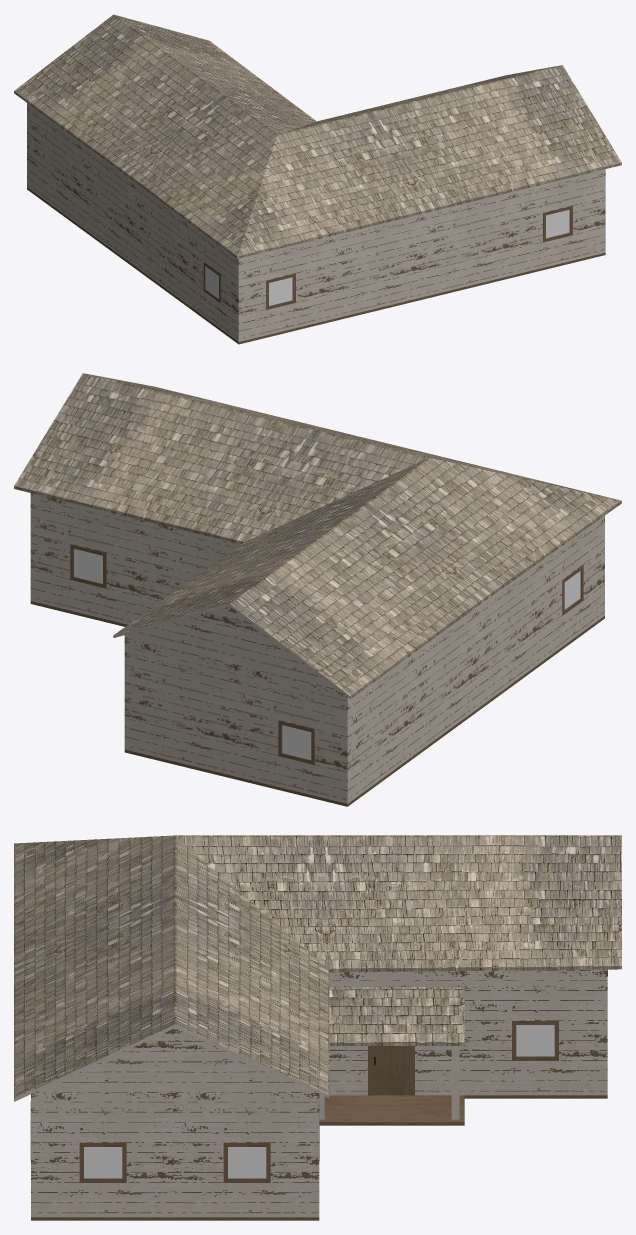
Rendered from FarmHause03.fbx.
3 views of the same model, one above another, from view 1: azimuth 30°, elevation 25°; view 2: azimuth 150°, elevation 25°; view 3: azimuth 270°, elevation 25° (orthographic). The views are drawn at different scales.
Visible parts, largest first — view 1: FermHaus.013, FermHaus.014, FermHaus.015, steklo.027, steklo.033; view 2: FermHaus.013, FermHaus.014, FermHaus.015, steklo.028, steklo.022; view 3: FermHaus.013, FermHaus.014, FermHaus.011, Doors.002, FermHaus.015, steklo.029, steklo.024, steklo.025.
Boxes of the visible parts, bbox=[...] form: FermHaus.013: bbox=[14, 14, 621, 258]; FermHaus.014: bbox=[27, 103, 605, 341]; FermHaus.015: bbox=[27, 187, 605, 344]; steklo.027: bbox=[269, 277, 292, 305]; steklo.033: bbox=[546, 209, 569, 238]; FermHaus.013: bbox=[14, 373, 621, 699]; FermHaus.014: bbox=[30, 493, 604, 803]; FermHaus.015: bbox=[30, 601, 604, 806]; steklo.028: bbox=[282, 725, 311, 759]; steklo.022: bbox=[74, 549, 102, 583]; FermHaus.013: bbox=[14, 835, 621, 1101]; FermHaus.014: bbox=[30, 969, 607, 1217]; FermHaus.011: bbox=[319, 987, 464, 1125]; Doors.002: bbox=[372, 1046, 410, 1095]; FermHaus.015: bbox=[31, 1095, 607, 1220]; steklo.029: bbox=[516, 1025, 554, 1056]; steklo.024: bbox=[228, 1147, 266, 1178]; steklo.025: bbox=[84, 1147, 122, 1178].
Bounding box in the file's own units: 1677 × 620 × 1687.
